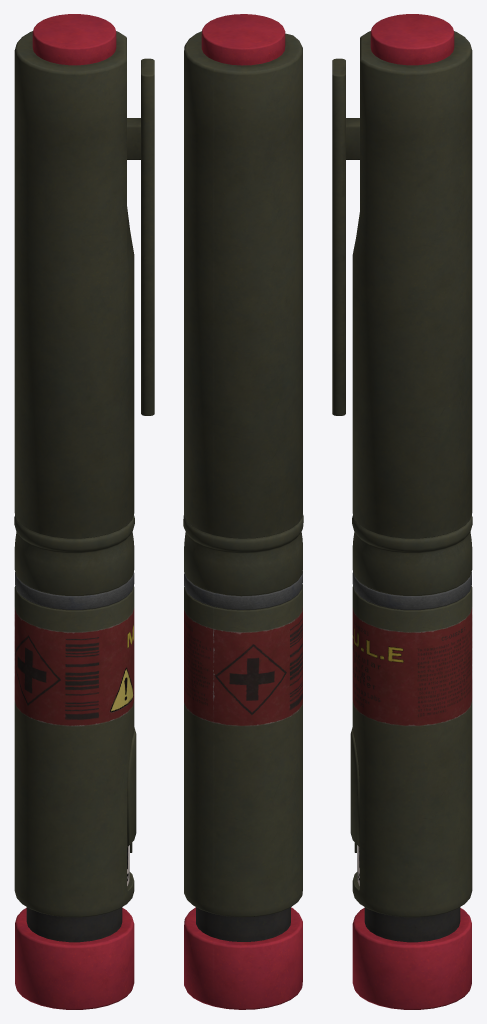
3 renders of one model, left to right at view 1: azimuth 90°, elevation 25°; view 2: azimuth 150°, elevation 25°; view 3: azimuth 270°, elevation 25°, orthographic.
Size of the model in its own units: 0.0121 by 0.1068 by 0.0142.
Materials: 1 (1 with a texture image).
